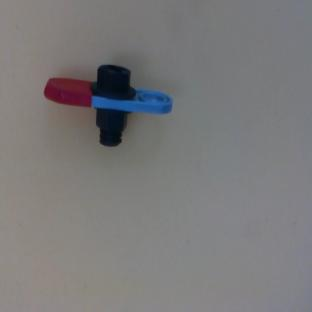part_1_good: (36, 37, 177, 166)
